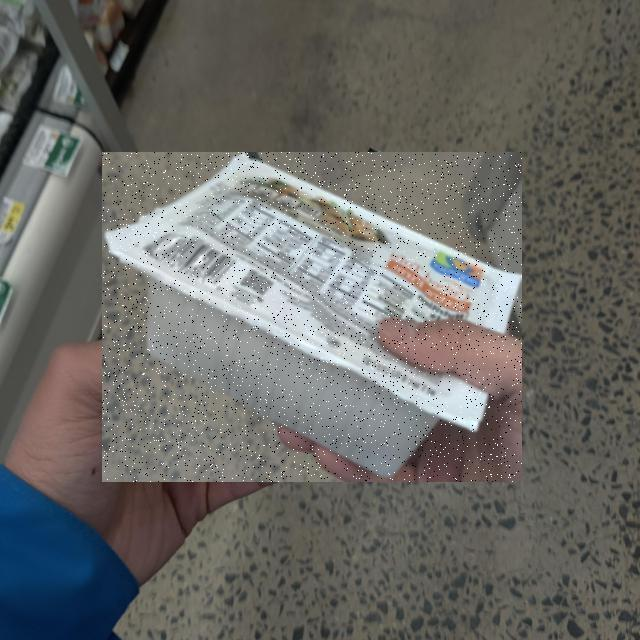Tofu: (102, 152, 522, 482)
